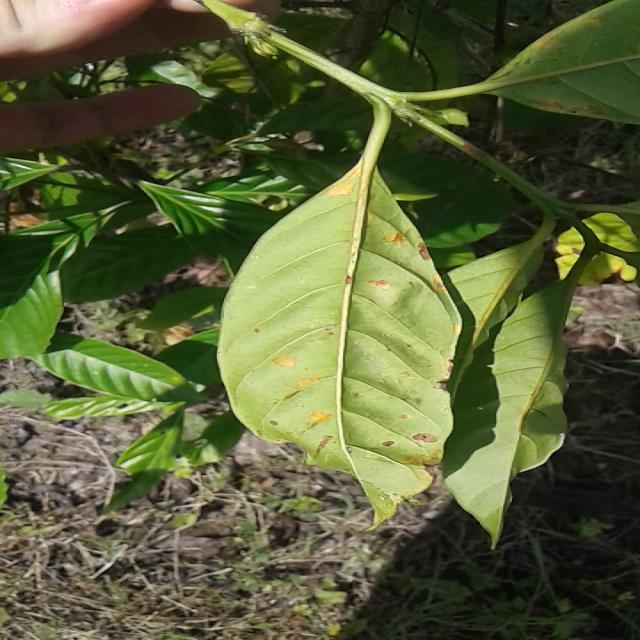Enfermedad-Roya: (216, 104, 458, 526)
